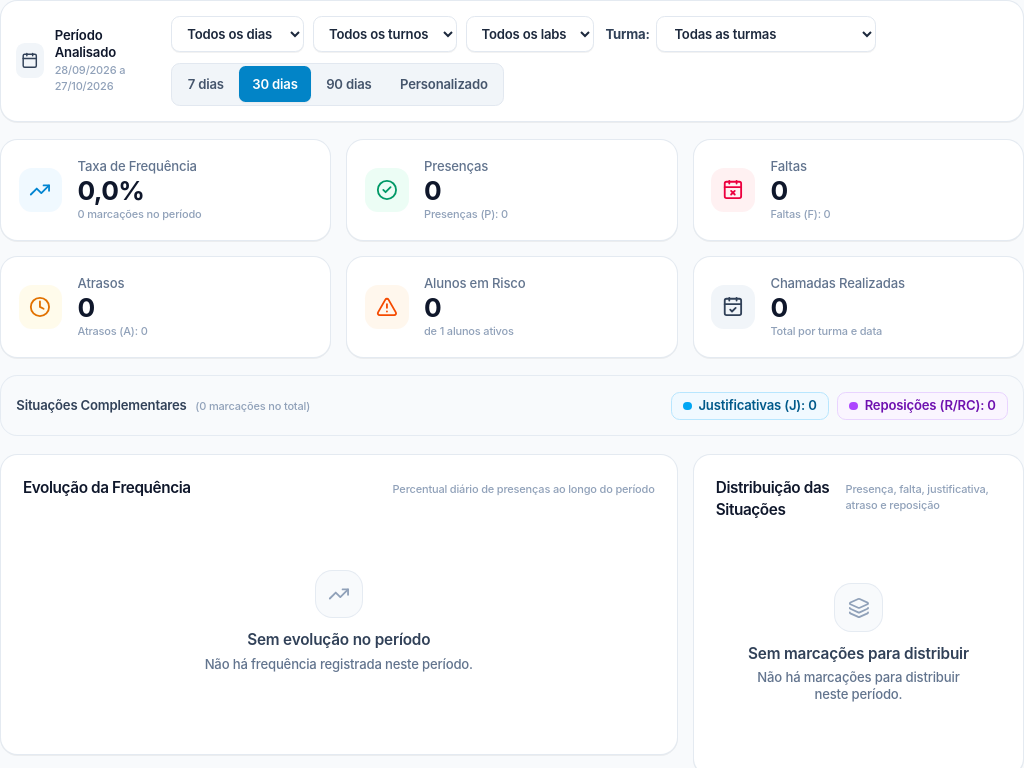
Test: DashboardPage › transforms comparative chart into student breakdown when a turma is selected
The image size is (1024, 768).
Select "Desenvolvimento Web (Curso não informado)" in the dropdown labelled "Turma:". click: [766, 34]
box: [656,16,876,52]
(page scrolled)
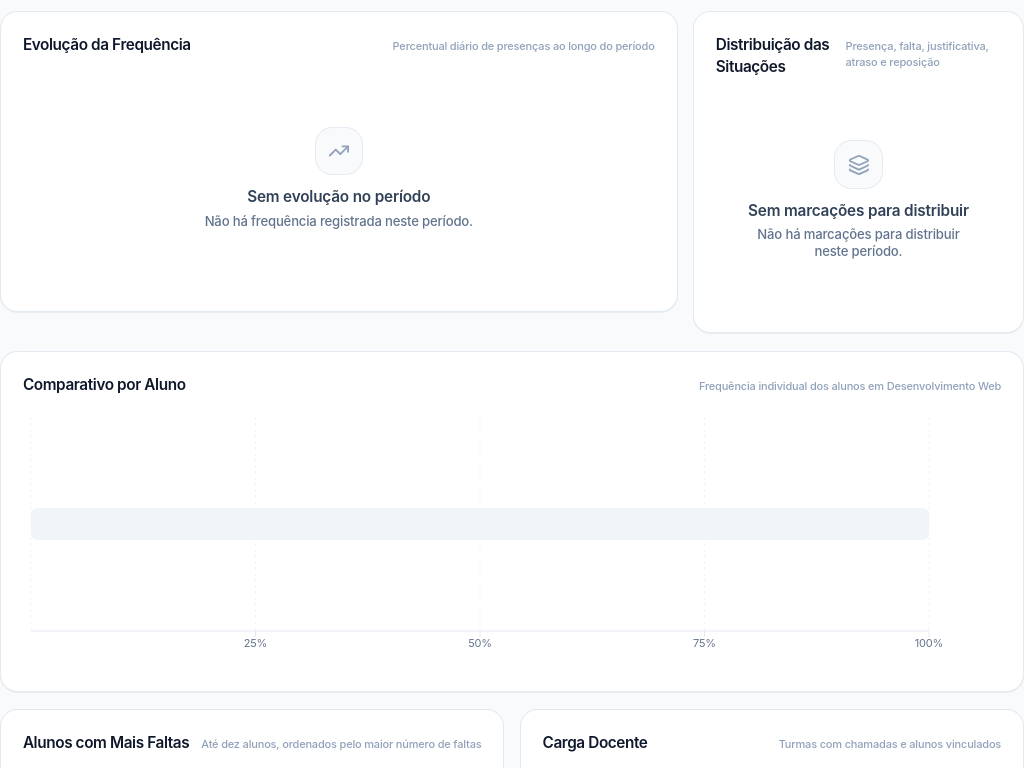
Expected: the heading "Comparativo por Aluno" is shown, [23,374,186,396]
